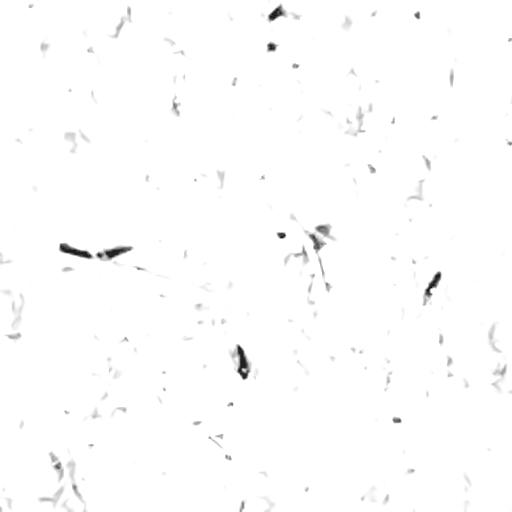egg: (59, 243, 132, 259), (424, 272, 440, 305), (235, 344, 249, 379), (268, 4, 283, 20)
